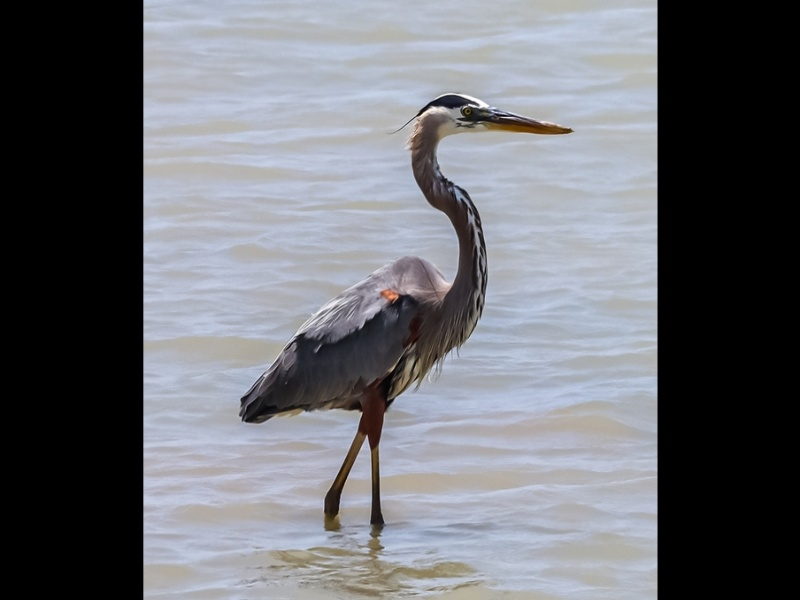heron: (237, 88, 574, 537)
